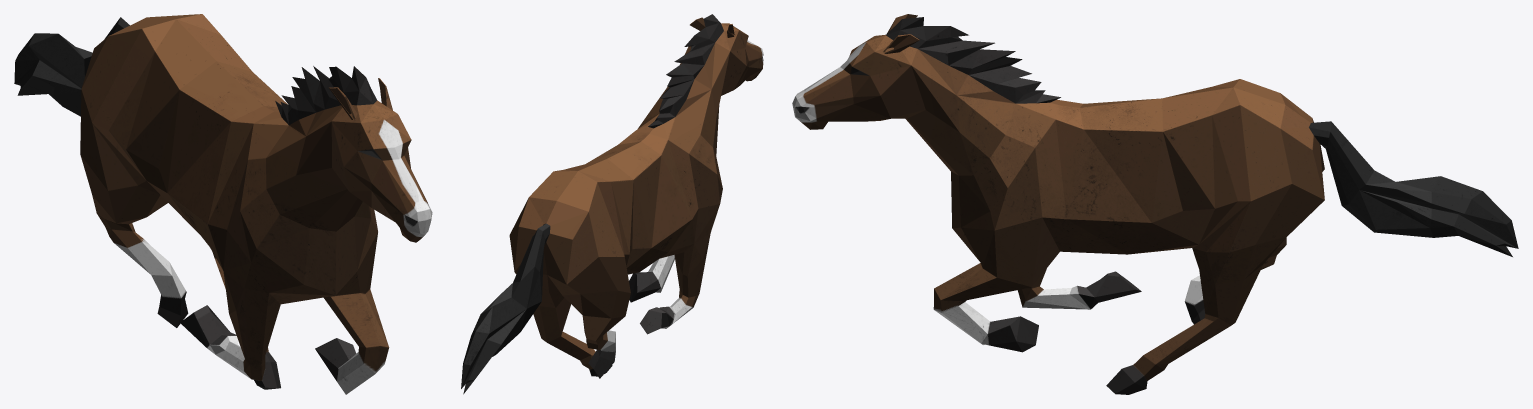
The model's file is horse.obj.
3 renders of one model, left to right at view 1: azimuth 30°, elevation 25°; view 2: azimuth 150°, elevation 25°; view 3: azimuth 270°, elevation 25°, orthographic. The views are drawn at different scales.
Parts seen in each view (by area): view 1: horse.1.mesh; view 2: horse.1.mesh; view 3: horse.1.mesh.
Boxes of the visible parts, bbox=[...] form: horse.1.mesh: bbox=[14, 14, 432, 394]; horse.1.mesh: bbox=[461, 14, 763, 394]; horse.1.mesh: bbox=[792, 14, 1518, 394].
Bounding box in the file's own units: 0.1608 × 0.4258 × 0.7652.
Materials: 1 (1 with a texture image).
